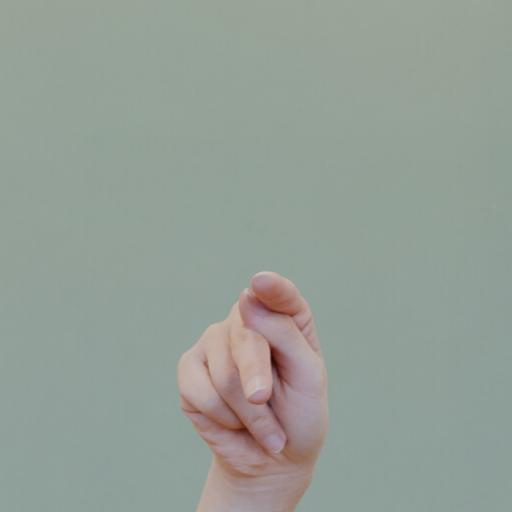P: (172, 265, 337, 484)
